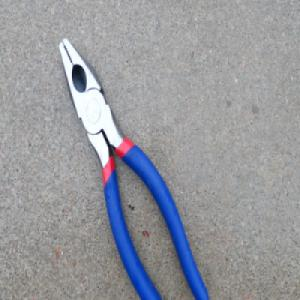Pliers: (57, 34, 211, 300)
